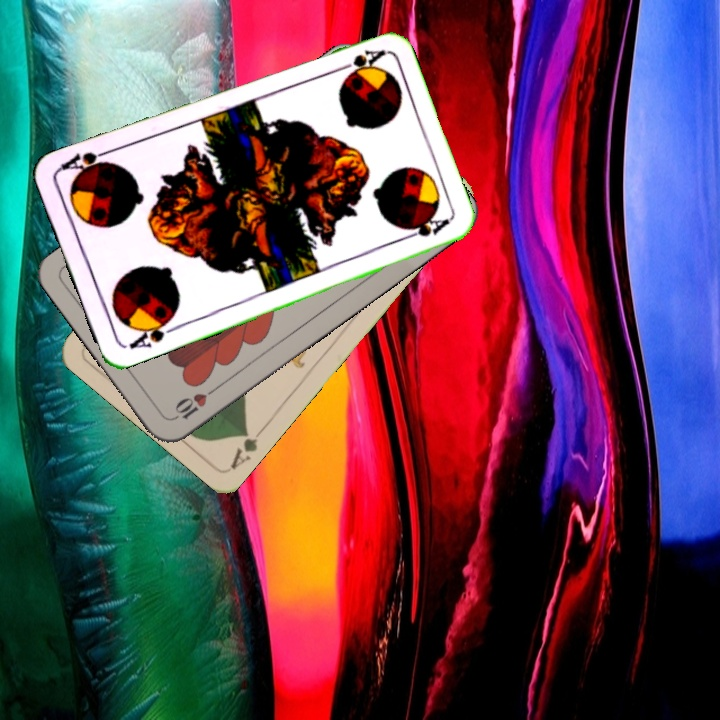GA: (226, 422, 269, 473)
H10: (169, 383, 220, 423)
SA: (125, 313, 180, 352), (330, 45, 387, 77)
